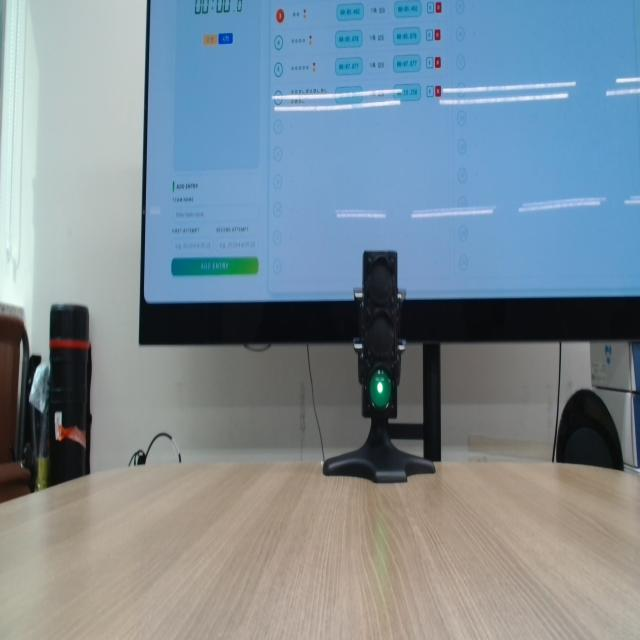green_light: (369, 370, 392, 410)
